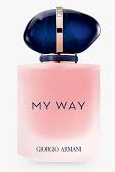armani_my_way_floral: (13, 5, 104, 164)
